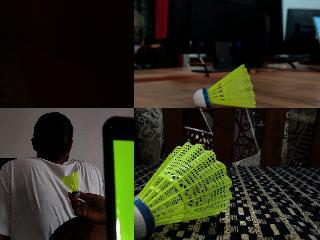shuttlecock: (134, 141, 232, 239), (0, 10, 50, 107), (193, 64, 256, 107), (58, 171, 80, 197)
